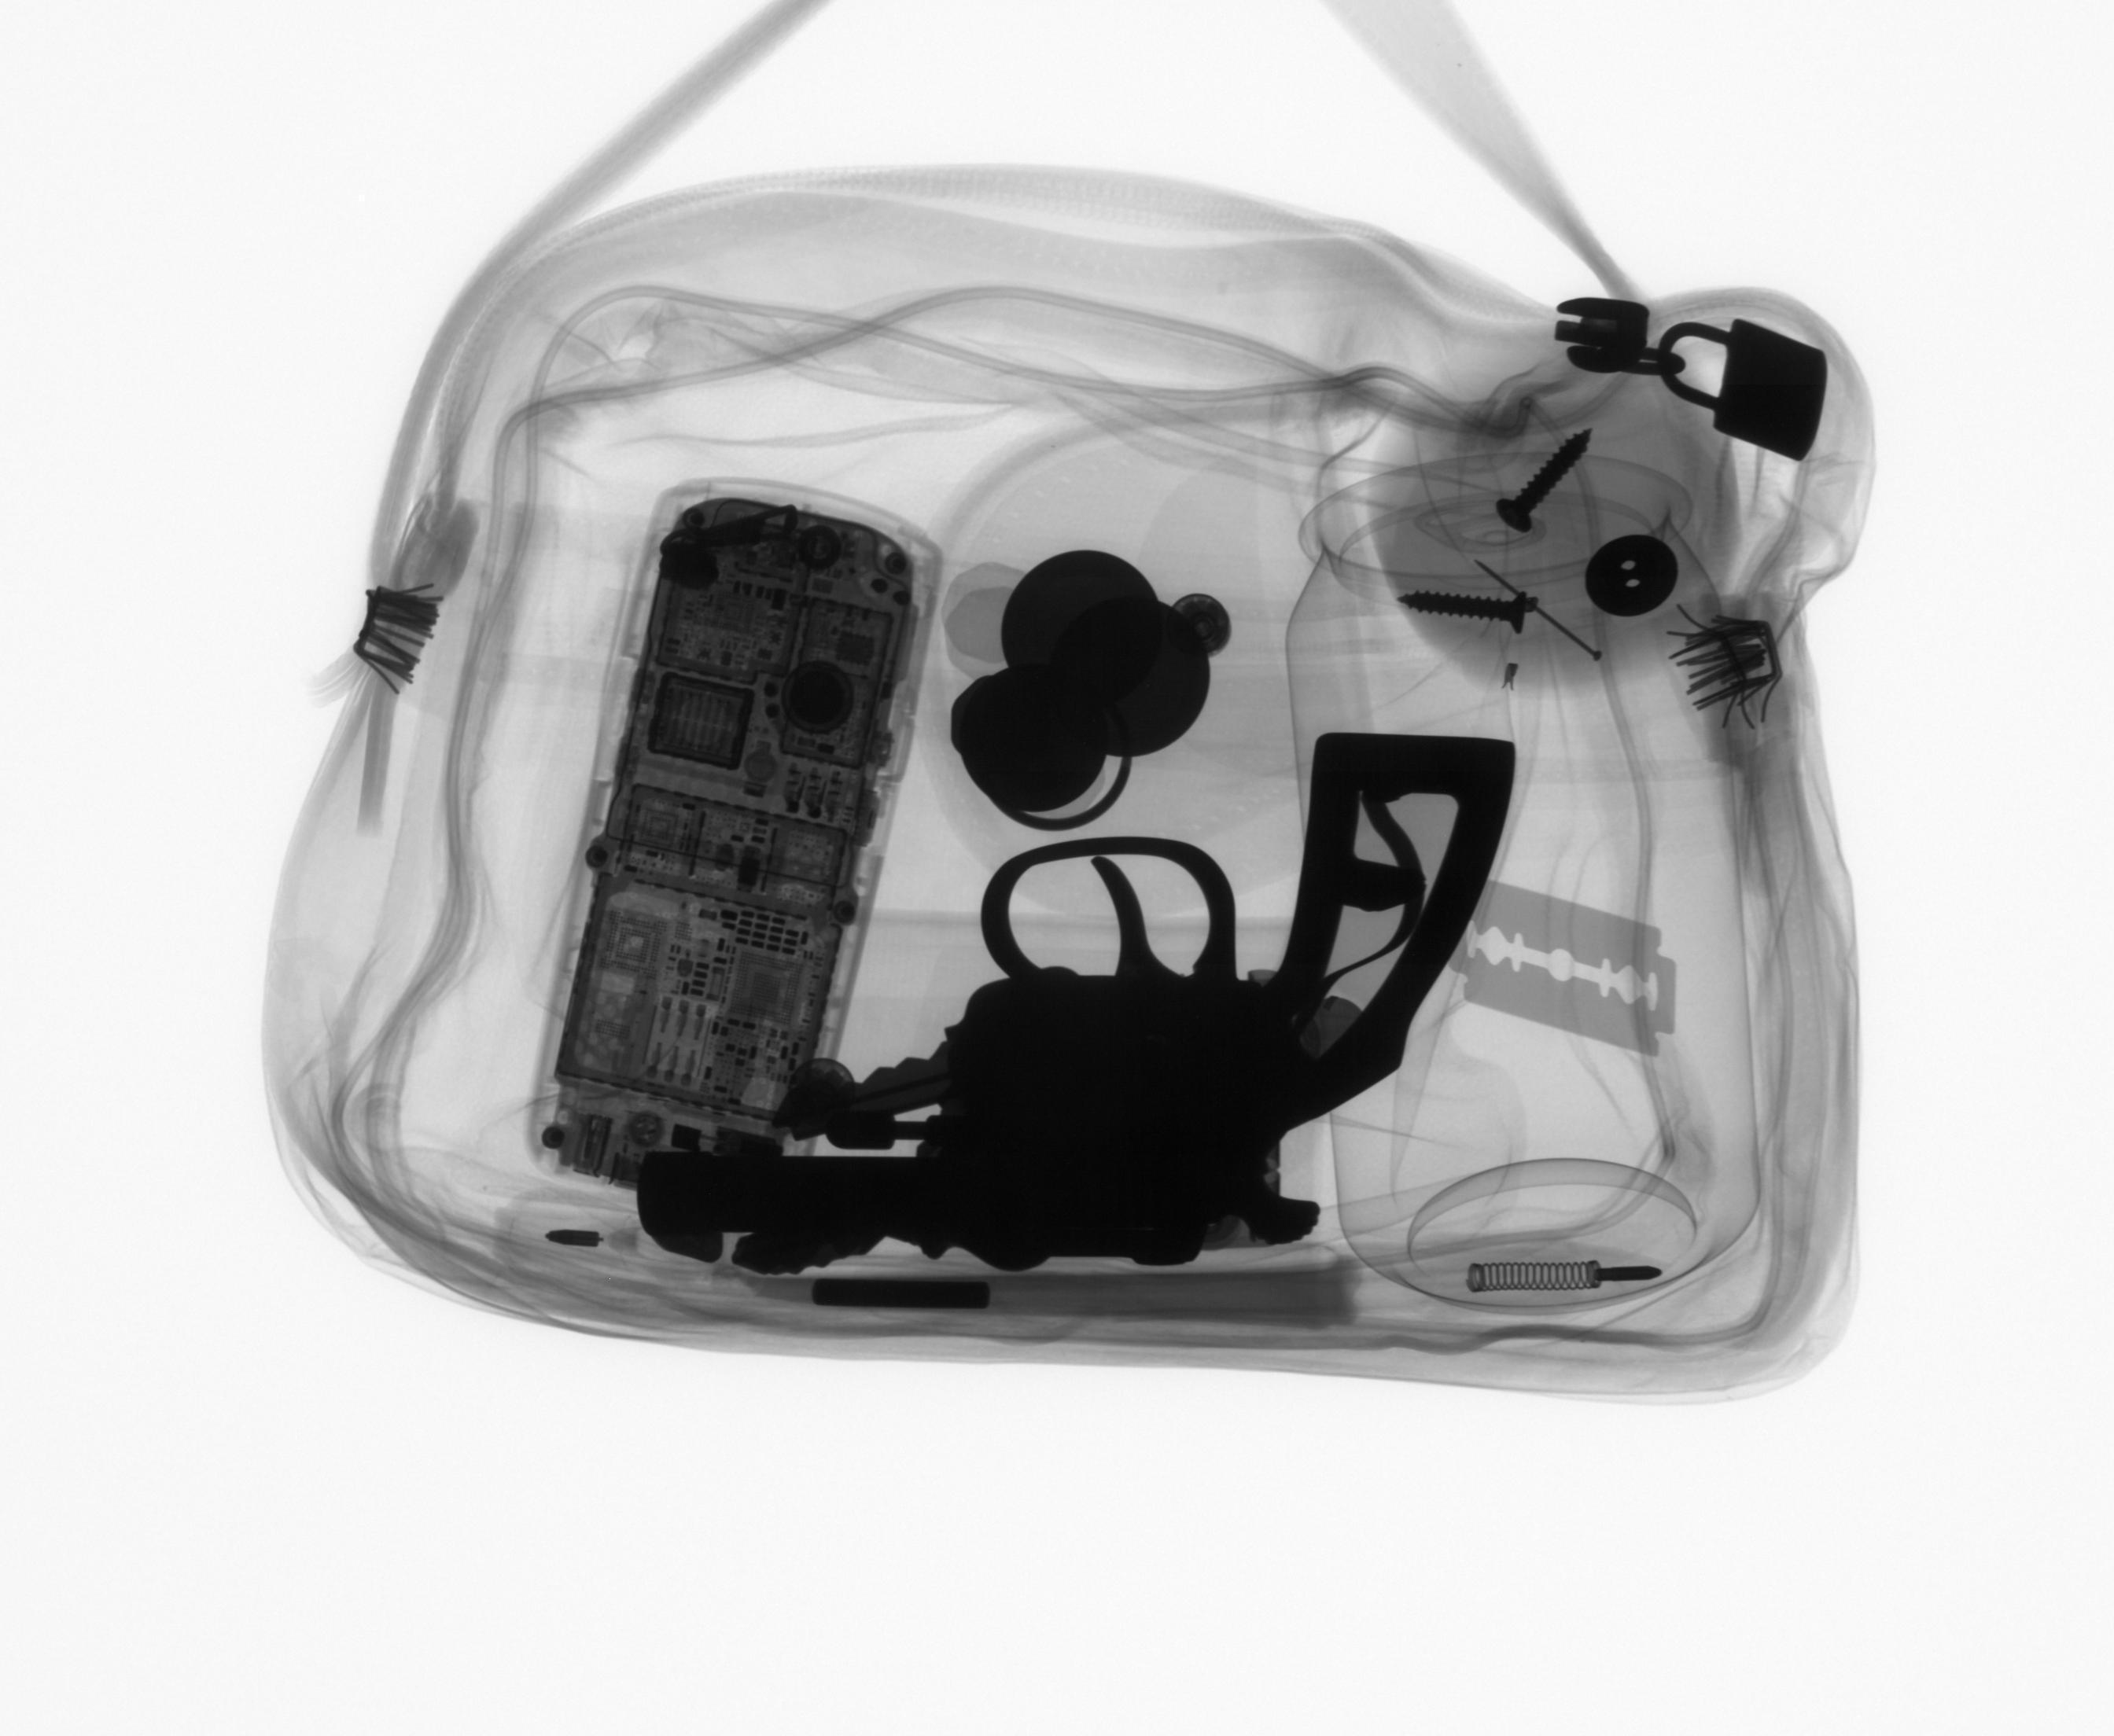Handgun: (629, 725, 1521, 1294)
RazorBlade: (1433, 871, 1684, 1064)
